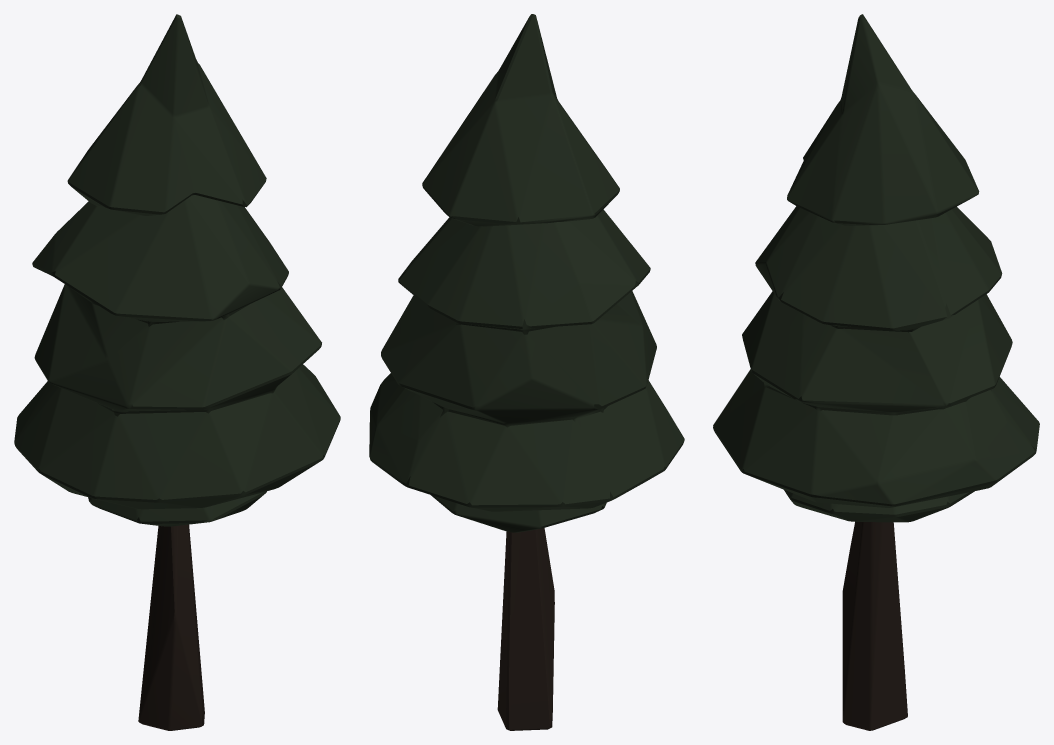
Rendered from Tree_Model_1.fbx.
The picture shows the model from 3 angles, left to right: view 1: azimuth 30°, elevation 25°; view 2: azimuth 150°, elevation 25°; view 3: azimuth 270°, elevation 25°; orthographic projection.
Visible parts, largest first — view 1: Tree_Model_1; view 2: Tree_Model_1; view 3: Tree_Model_1.
Boxes of the visible parts, left/top/right/bottom form: Tree_Model_1: left=14, top=14, right=340, bottom=730; Tree_Model_1: left=369, top=14, right=684, bottom=730; Tree_Model_1: left=713, top=14, right=1039, bottom=730.
Size of the model in its own units: 548 by 1307 by 551.
